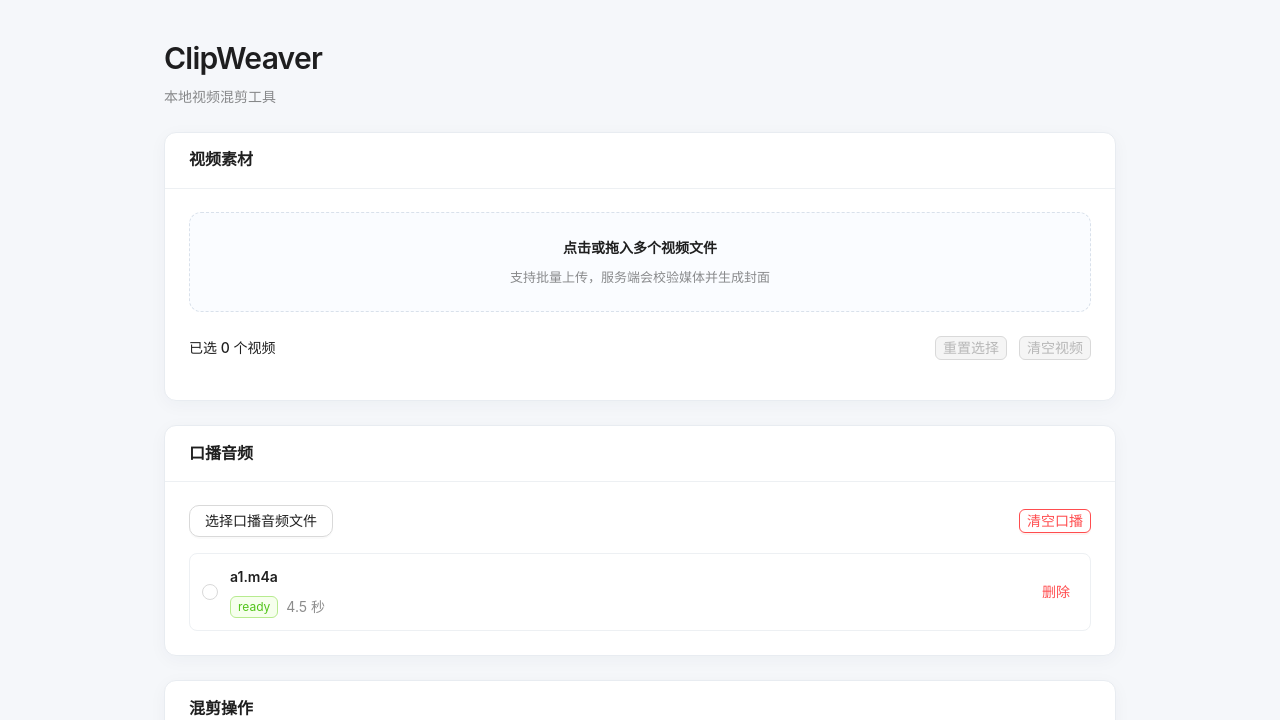
failed audio deletion retains the row and shows a card error
The image size is (1280, 720).
Click the button with aria-label "删除口播 a1.m4a". click: (1056, 592)
box: [1034, 580, 1078, 604]
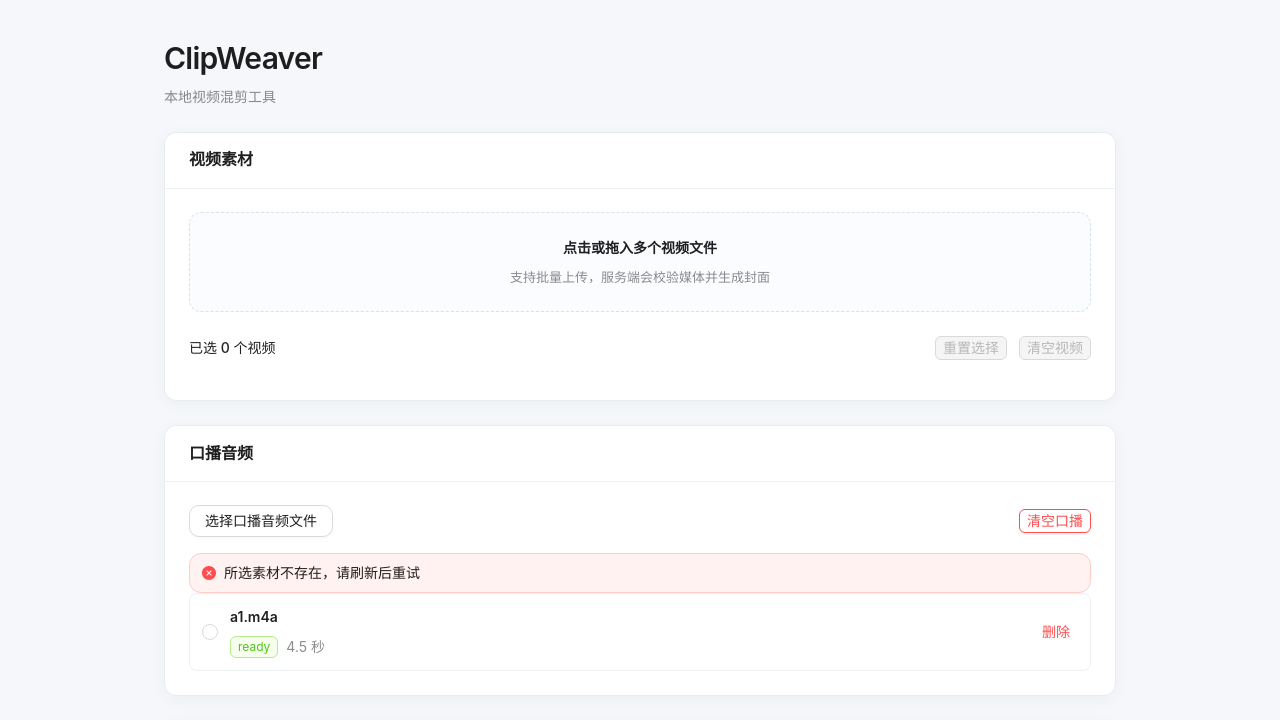
Expected: the radio button named "选择口播 a1.m4a" is shown, [202, 621, 218, 643]
Result: the message shows "所选素材不存在" at [224, 564, 420, 581]
